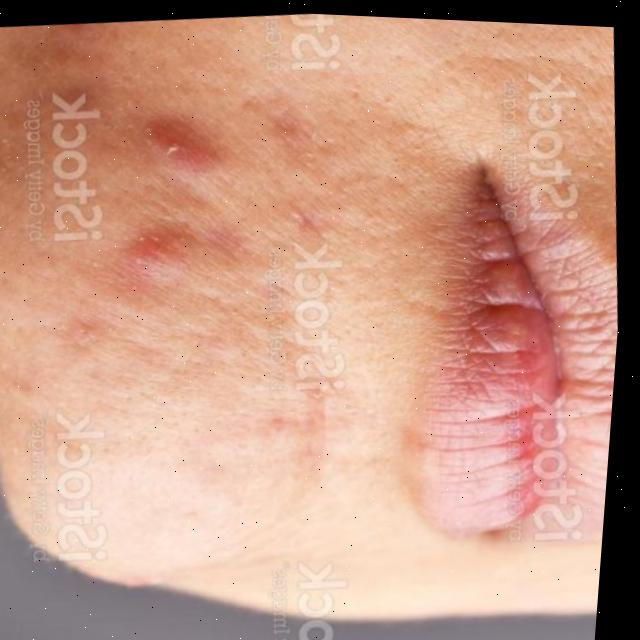Acne: (0, 0, 363, 480)
